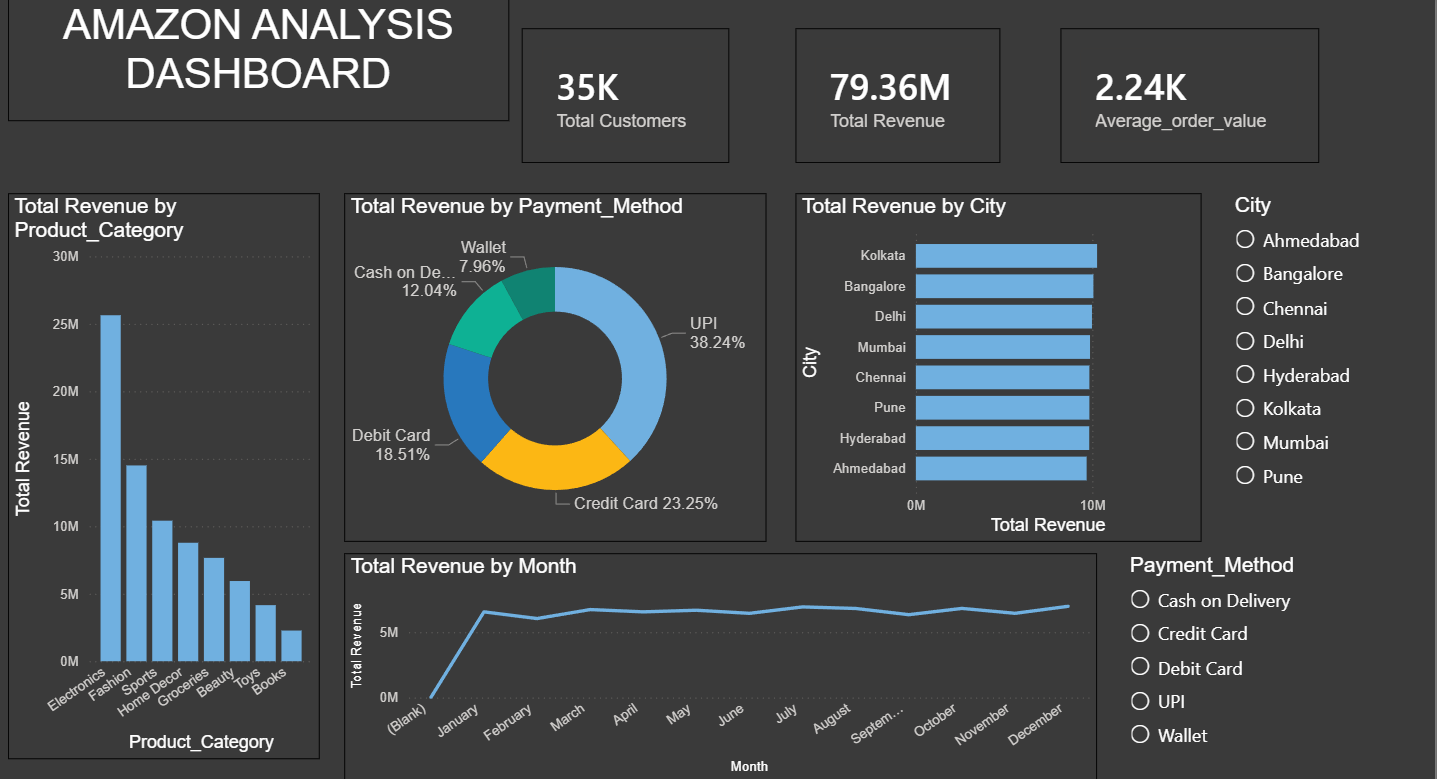

What the dashboard file says about the page in this screenshot:
{"tool":"powerbi","page":{"name":"Page 1","canvas":[1280,720],"ordinal":0},"visuals":[{"type":"cardVisual","fields":{"Data":["Amazon_analysis_two.Total Revenue"]},"box":[710,32.5,182.5,120],"z":0},{"type":"cardVisual","fields":{"Data":["Amazon_analysis_two.Average_order_value"]},"box":[946.2,32.5,230,120],"z":1},{"type":"cardVisual","fields":{"Data":["Amazon_analysis_two.Total Customers"]},"box":[466.2,32.5,185,120],"z":2},{"type":"columnChart","fields":{"Category":["Amazon_analysis_two.Product_Category"],"Y":["Amazon_analysis_two.Total Revenue"]},"box":[8.8,178.8,277.5,503.8],"z":3},{"type":"clusteredBarChart","fields":{"Category":["Amazon_analysis_two.City"],"Y":["Amazon_analysis_two.Total Revenue"]},"box":[710,178.8,361.2,310],"z":4},{"type":"lineChart","fields":{"Y":["Amazon_analysis_two.Total Revenue"],"Category":["Amazon_analysis_two.Order_Date.Variation.Date Hierarchy.Month"]},"box":[308.8,500,670,202.5],"z":5},{"type":"donutChart","fields":{"Category":["Amazon_analysis_two.Payment_Method"],"Y":["Amazon_analysis_two.Total Revenue"]},"box":[308.8,178.8,376.2,310],"z":6},{"type":"textbox","box":[8.8,2.5,446.2,112.5],"z":7},{"type":"listSlicer","fields":{"Values":["Amazon_analysis_two.City"]},"box":[1096.2,178.8,156.2,275],"z":8},{"type":"listSlicer","fields":{"Values":["Amazon_analysis_two.Payment_Method"]},"box":[1002.5,500,186.2,202.5],"z":9}]}

Visuals, with their boxes on the page's 1280x720 design canvas (x1, y1, x2, y2). These are canvas units, not pixel positions in the 1437x779 screenshot, which may show the page scaled, cropped or inside an application window:
cardVisual - Amazon_analysis_two.Total Revenue: (710, 32, 892, 152)
cardVisual - Amazon_analysis_two.Average_order_value: (946, 32, 1176, 152)
cardVisual - Amazon_analysis_two.Total Customers: (466, 32, 651, 152)
columnChart - Amazon_analysis_two.Product_Category x Amazon_analysis_two.Total Revenue: (9, 179, 286, 683)
clusteredBarChart - Amazon_analysis_two.City x Amazon_analysis_two.Total Revenue: (710, 179, 1071, 489)
lineChart - Amazon_analysis_two.Total Revenue x Amazon_analysis_two.Order_Date.Variation.Date Hierarchy.Month: (309, 500, 979, 702)
donutChart - Amazon_analysis_two.Payment_Method x Amazon_analysis_two.Total Revenue: (309, 179, 685, 489)
textbox: (9, 2, 455, 115)
listSlicer - Amazon_analysis_two.City: (1096, 179, 1252, 454)
listSlicer - Amazon_analysis_two.Payment_Method: (1002, 500, 1189, 702)
